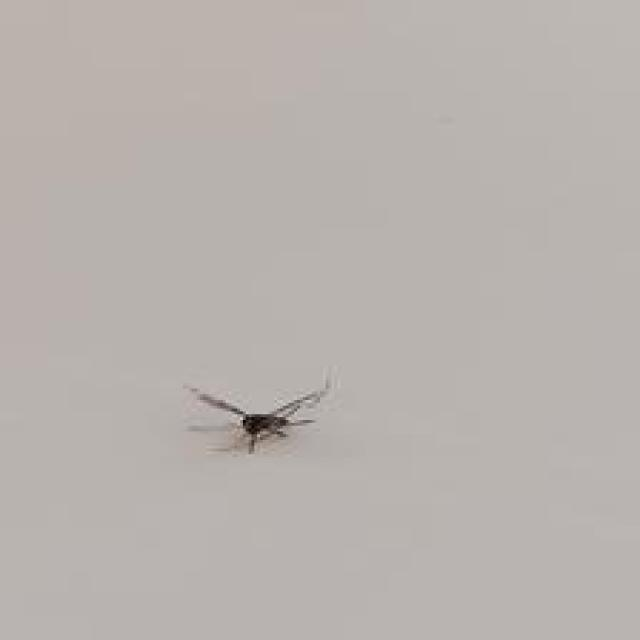Aedes albopictus: (183, 373, 331, 456)
